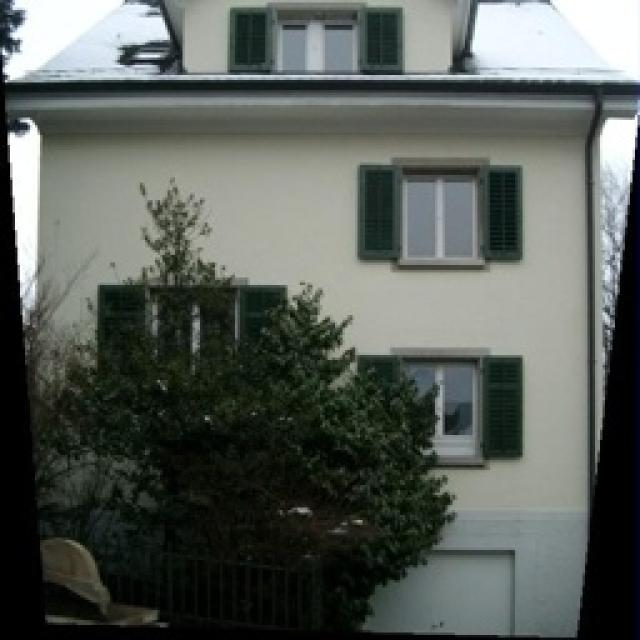building: (20, 0, 622, 640)
